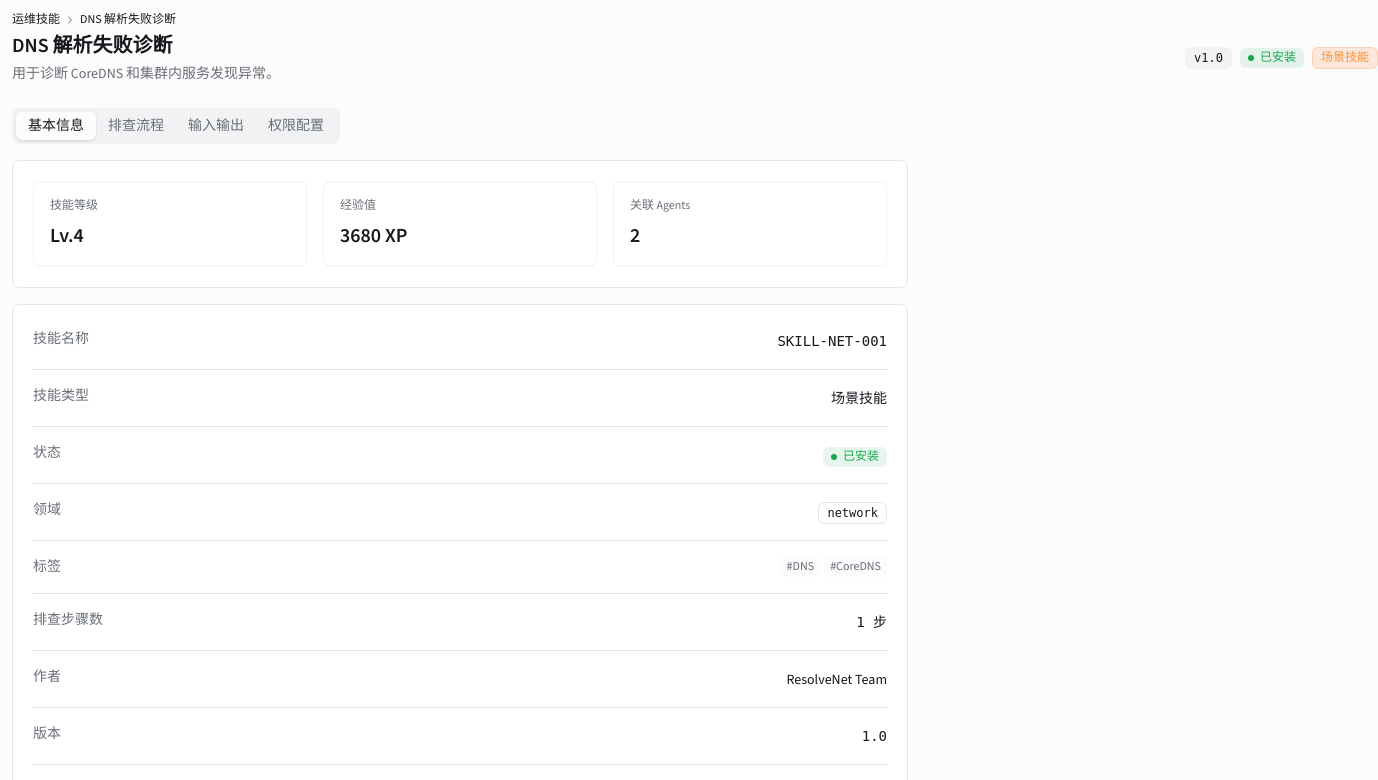
Test case: SkillDetail page › renders complete skill detail content from route param
The width and height of the screenshot is (1378, 780).
Expected: the heading "DNS 解析失败诊断" is shown, [12,32,172,60]
Expected: the text "Lv.4" is shown, [50,222,84,250]
Click the "排查流程" tab to reveal troubleshooting flow content
Click the tab "排查流程": (136, 126) [96,112,176,140]
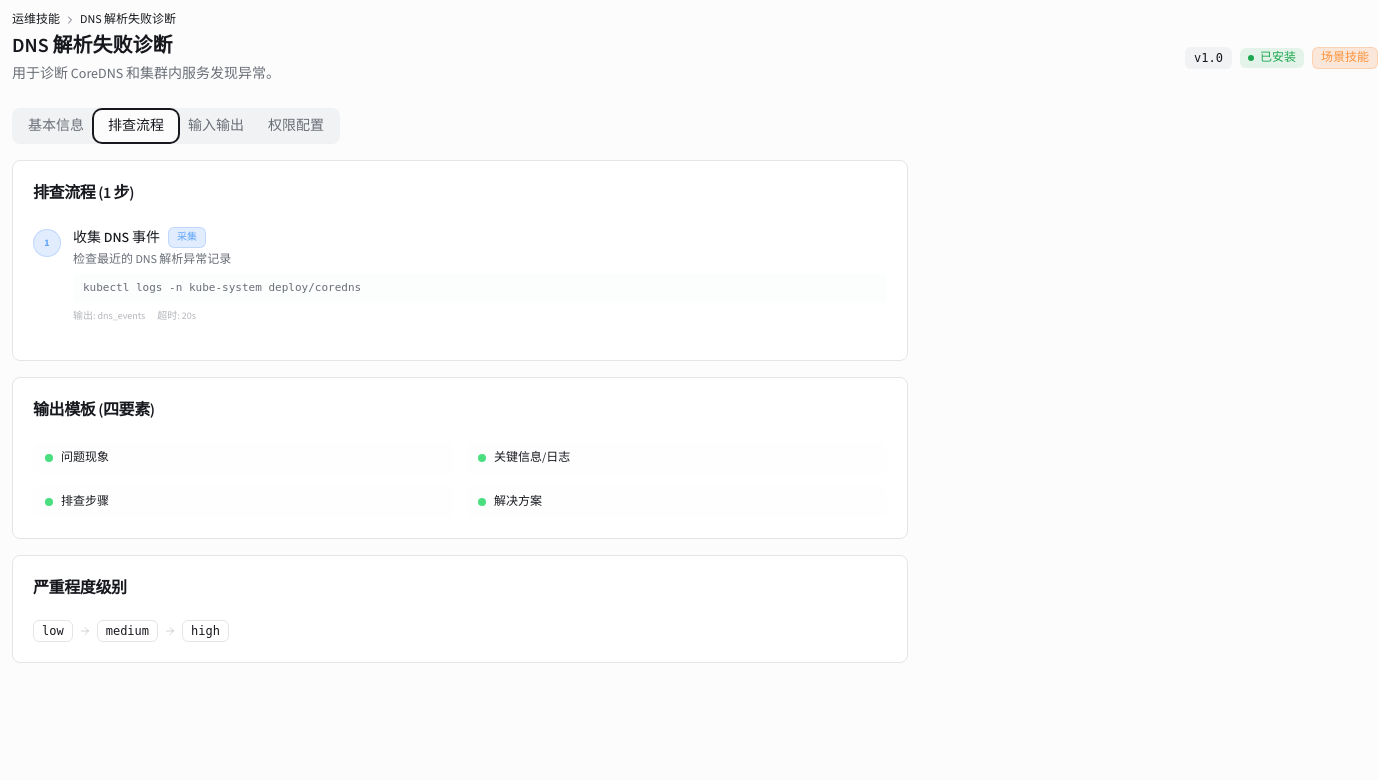
Expected: the text "收集 DNS 事件" is shown, [73,228,160,248]
